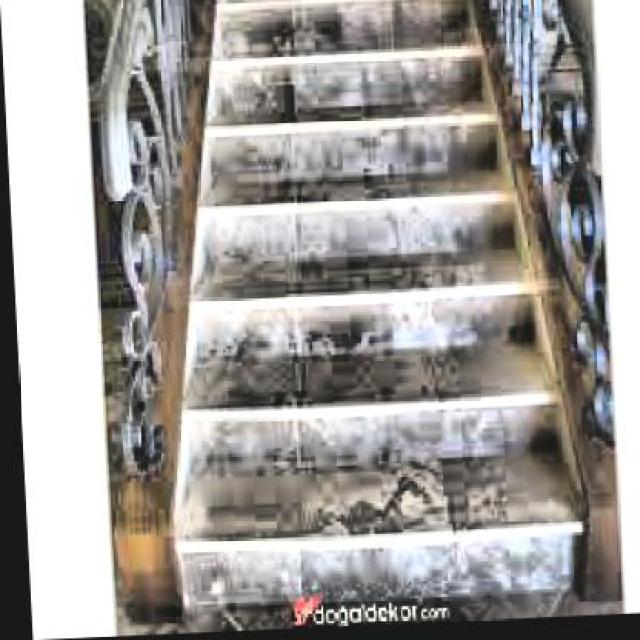stair: (163, 0, 611, 617)
